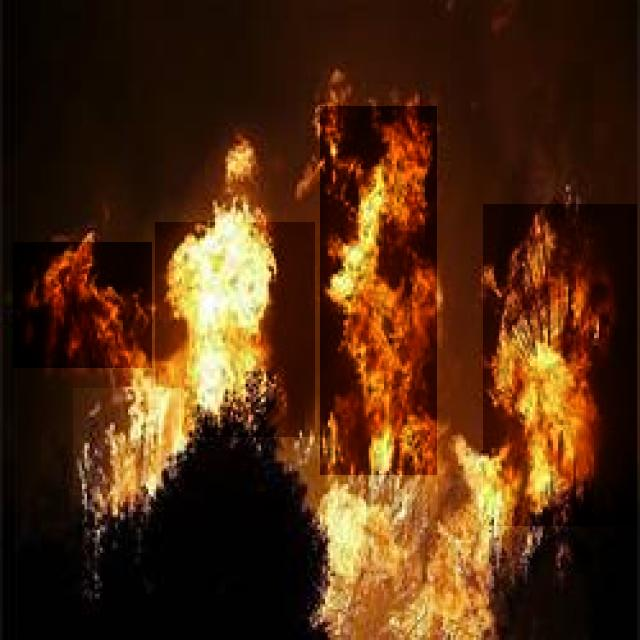Fire: (483, 204, 637, 526), (320, 106, 437, 475), (271, 477, 509, 640), (155, 222, 315, 437), (13, 242, 152, 368), (73, 388, 181, 495), (306, 75, 361, 203), (217, 139, 279, 188)
